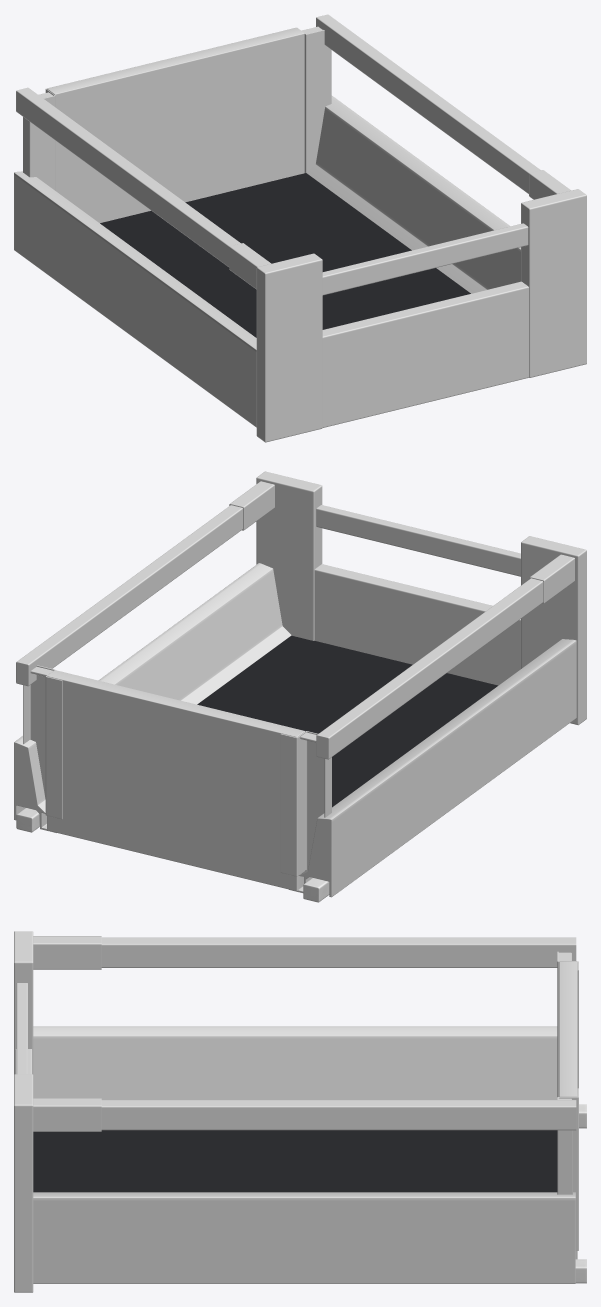
File: SM_Kitchen_02_Drawer_02.obj
3 renders of one model, top to bottom at view 1: azimuth 30°, elevation 25°; view 2: azimuth 150°, elevation 25°; view 3: azimuth 270°, elevation 25°, orthographic. The views are drawn at different scales.
Parts seen in each view (by area): view 1: SM_Kitchen_02_Drawer_02; view 2: SM_Kitchen_02_Drawer_02; view 3: SM_Kitchen_02_Drawer_02.
Boxes of the visible parts, box(x1,y1,x2,y2) form: SM_Kitchen_02_Drawer_02: box(14, 14, 586, 442); SM_Kitchen_02_Drawer_02: box(14, 471, 586, 902); SM_Kitchen_02_Drawer_02: box(14, 931, 586, 1292).
Bounding box in the file's own units: 0.362 × 0.182 × 0.5029.
3 materials, 3 textured.
